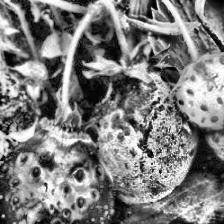Gray Mold: (84, 33, 198, 205), (204, 21, 224, 170)
